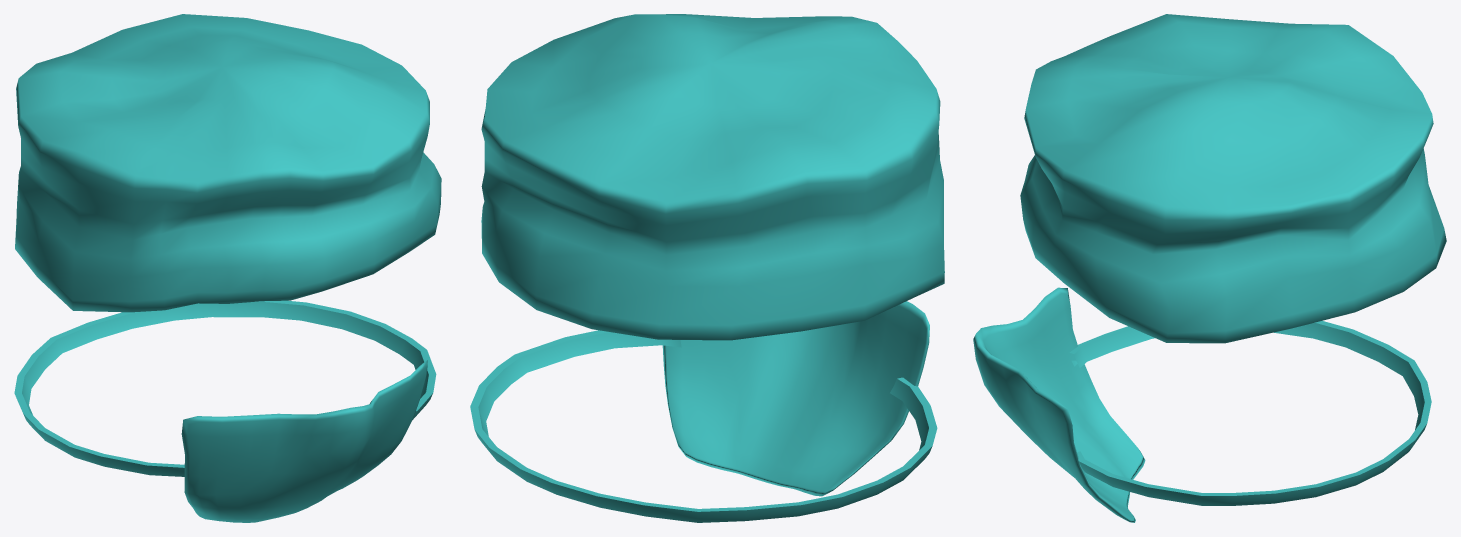
The model's file is doktor.fbx.
3 views of the same model, side by side, from view 1: azimuth 30°, elevation 25°; view 2: azimuth 150°, elevation 25°; view 3: azimuth 270°, elevation 25° (orthographic). The views are drawn at different scales.
Parts seen in each view (by area): view 1: sapka, maske, maske_ipi; view 2: sapka, maske, maske_ipi; view 3: sapka, maske, maske_ipi.
Boxes of the visible parts, <box> form: sapka: <box>15,14,441,312</box>; maske: <box>181,360,427,522</box>; maske_ipi: <box>14,300,436,476</box>; sapka: <box>481,14,944,340</box>; maske: <box>662,301,929,496</box>; maske_ipi: <box>470,330,937,522</box>; sapka: <box>1020,14,1446,343</box>; maske: <box>973,287,1145,522</box>; maske_ipi: <box>1069,320,1431,505</box>.
Size of the model in its own units: 77.72 by 82.38 by 83.51.
